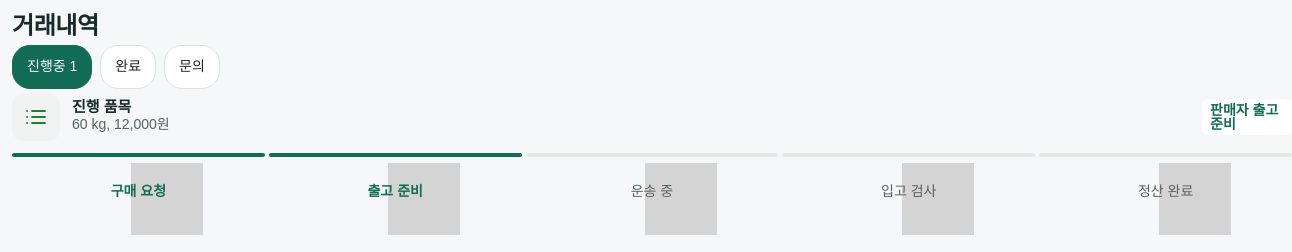
거래내역은 선택한 탭만 표시하고 문의 탭에서 대화로 이동합니다
Later steps or results of the test are not shown.
Expected: the text "진행 품목" is shown, [72,98,131,115]
Expected: the text "완료 품목" is not shown
Click the tab "완료".
click(128, 67)  # box [100,45,156,89]
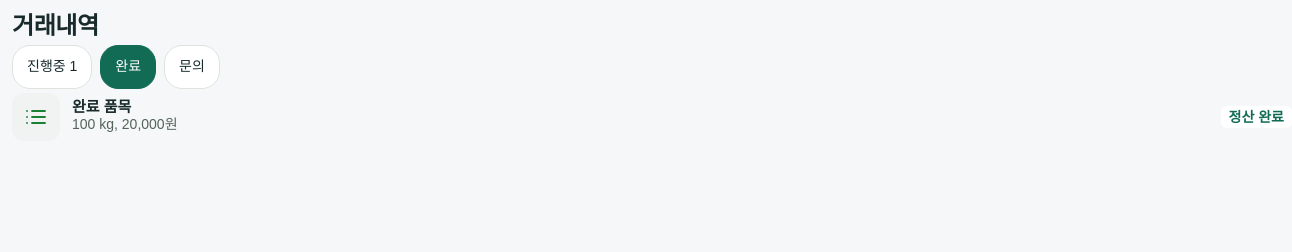
Now the text "완료 품목" is shown, box [72,98,131,115]
Now the button "진행 품목" is gone
